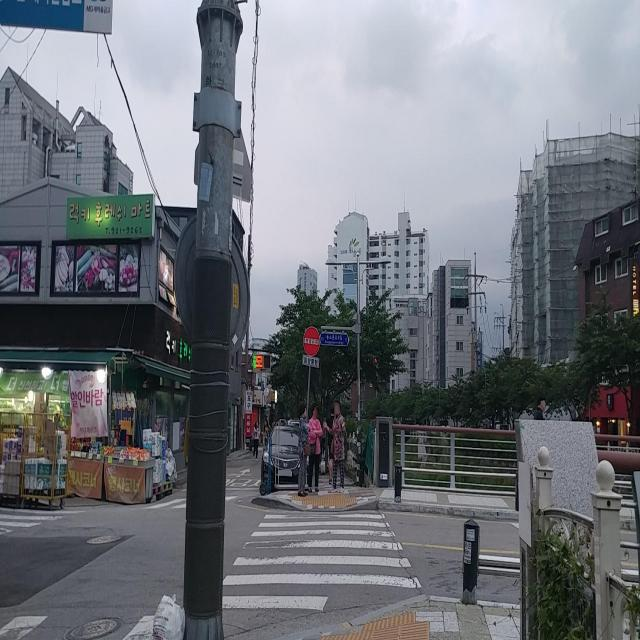횡단보도: (222, 512, 423, 613)
